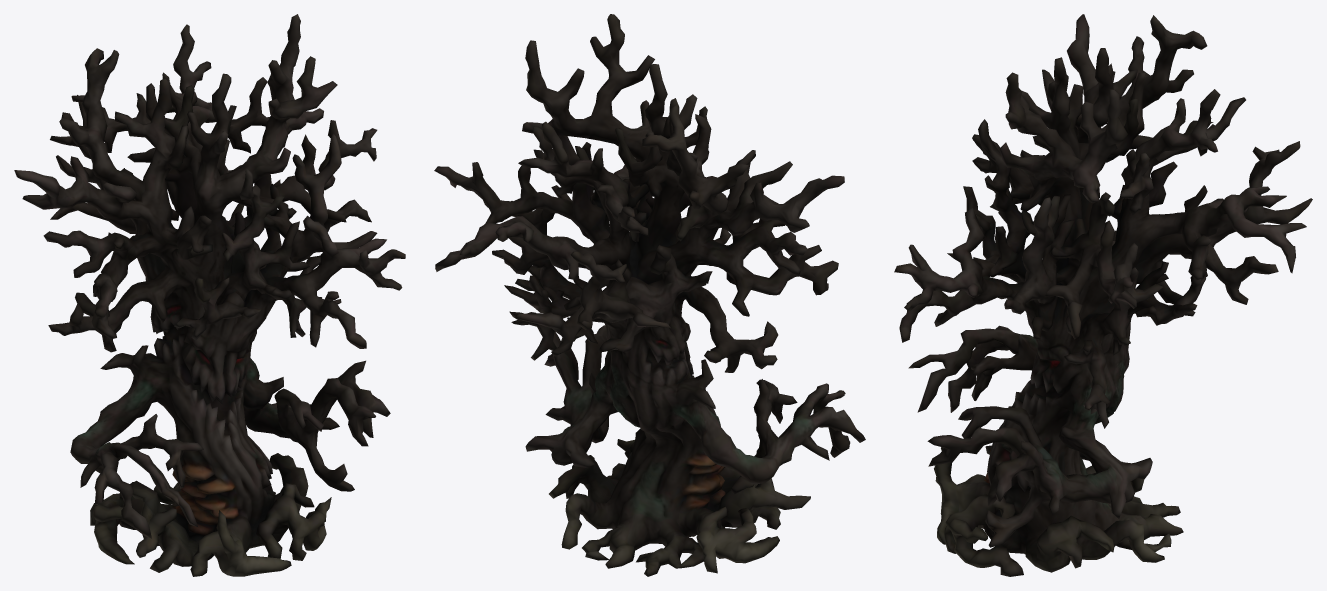
Rendered from Schlossbauer - Tree Blight.glb.
3 views of the same model, side by side, from view 1: azimuth 30°, elevation 25°; view 2: azimuth 150°, elevation 25°; view 3: azimuth 270°, elevation 25° (orthographic). The views are drawn at different scales.
Parts seen in each view (by area): view 1: poBlight01; view 2: poBlight01; view 3: poBlight01.
Boxes of the visible parts, x1=… form: poBlight01: x1=14, y1=14, x2=405, y2=576; poBlight01: x1=434, y1=14, x2=865, y2=576; poBlight01: x1=894, y1=14, x2=1312, y2=576.
Bounding box in the file's own units: 1.4 × 1.65 × 1.25.
1 material, 1 textured.
